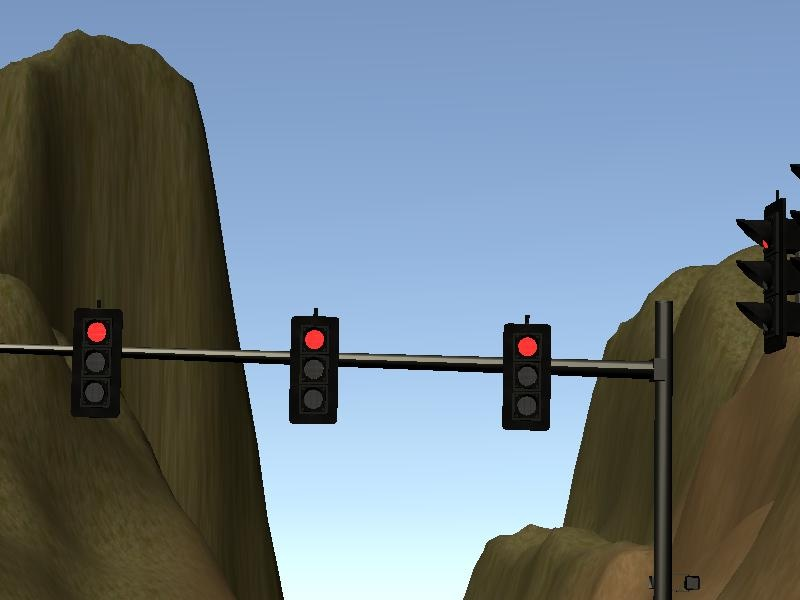RED: (288, 316, 340, 424), (71, 311, 122, 417), (502, 324, 553, 430)
